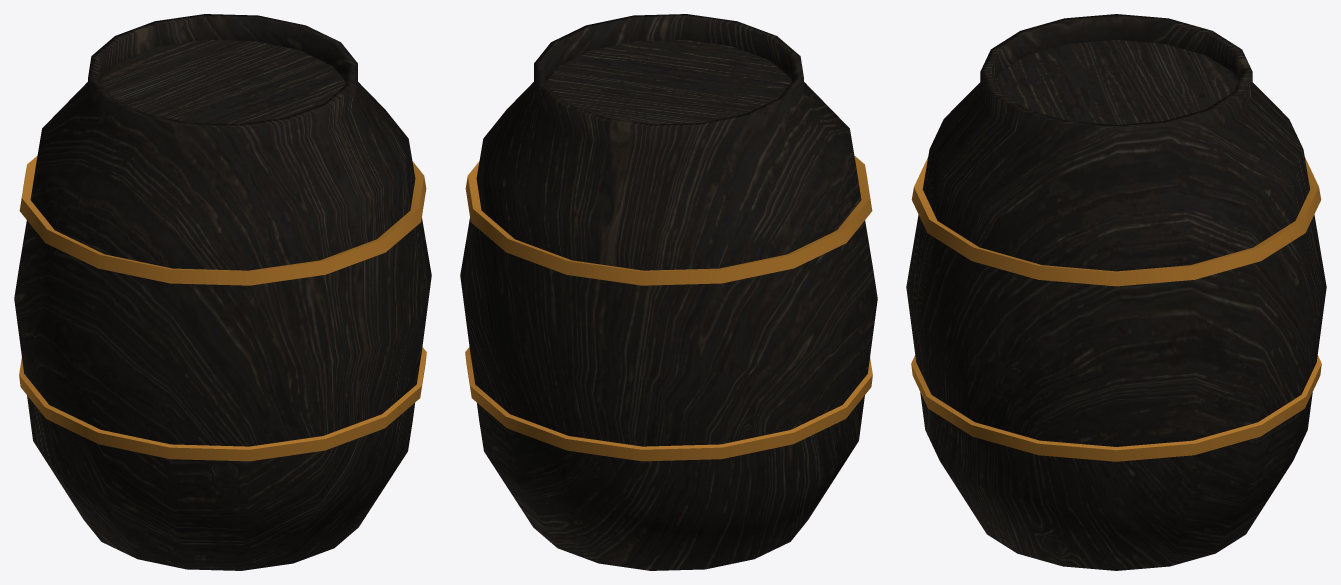
The model's file is barrel.fbx.
3 renders of one model, left to right at view 1: azimuth 30°, elevation 25°; view 2: azimuth 150°, elevation 25°; view 3: azimuth 270°, elevation 25°, orthographic.
Visible parts, largest first — view 1: Cylinder, rings; view 2: Cylinder, rings; view 3: Cylinder, rings.
Part boxes in pixels (<box>): Cylinder: <box>14,14,431,570</box>; rings: <box>19,155,426,461</box>; Cylinder: <box>460,14,877,570</box>; rings: <box>465,155,872,461</box>; Cylinder: <box>906,14,1326,570</box>; rings: <box>911,157,1321,461</box>.
Bounding box in the file's own units: 788 × 911 × 788.
Materials: 2 (2 with a texture image).
